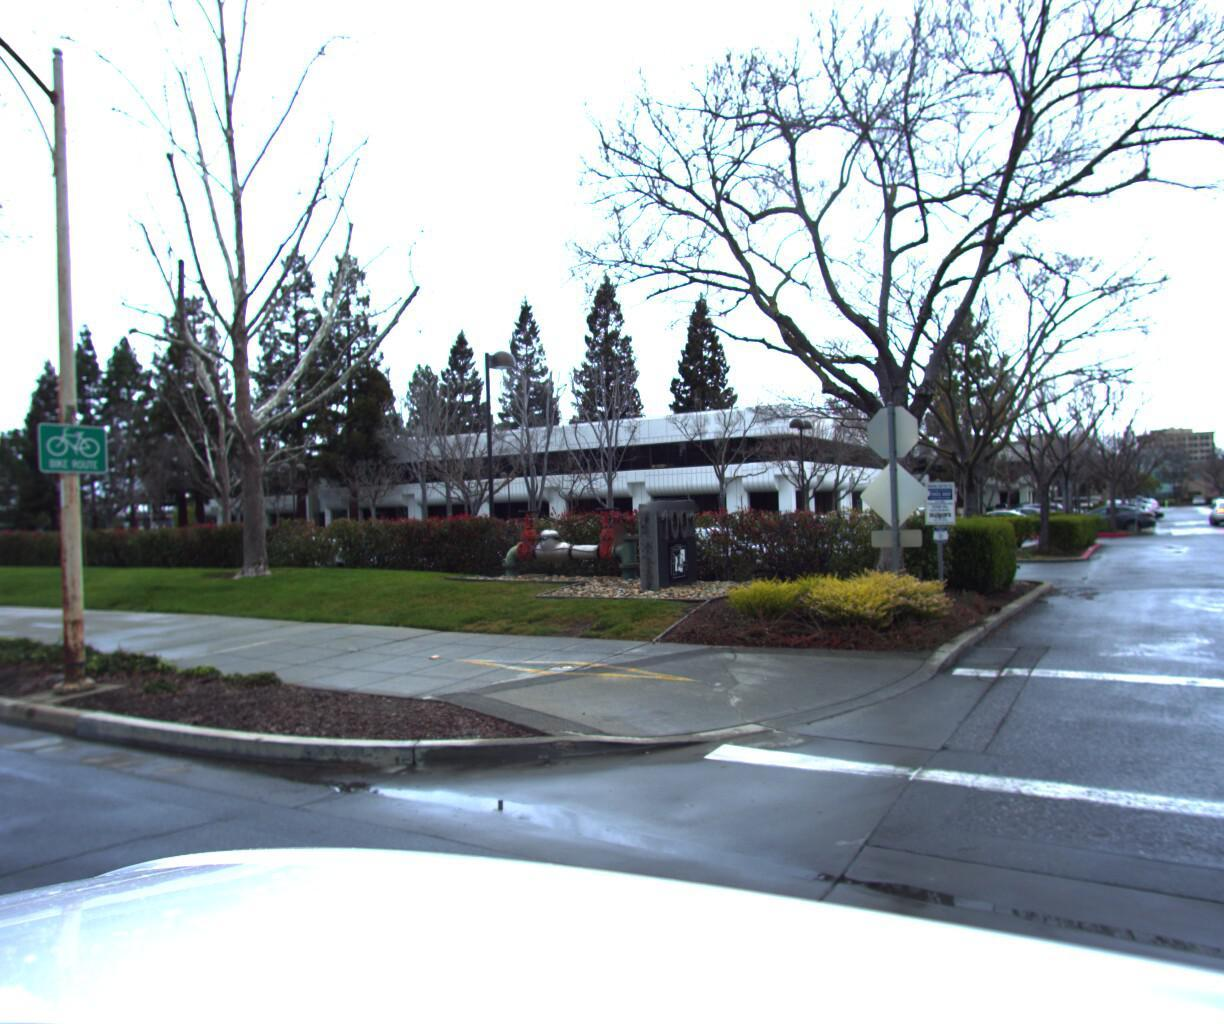car: (1054, 502, 1156, 534), (1211, 497, 1224, 527)
